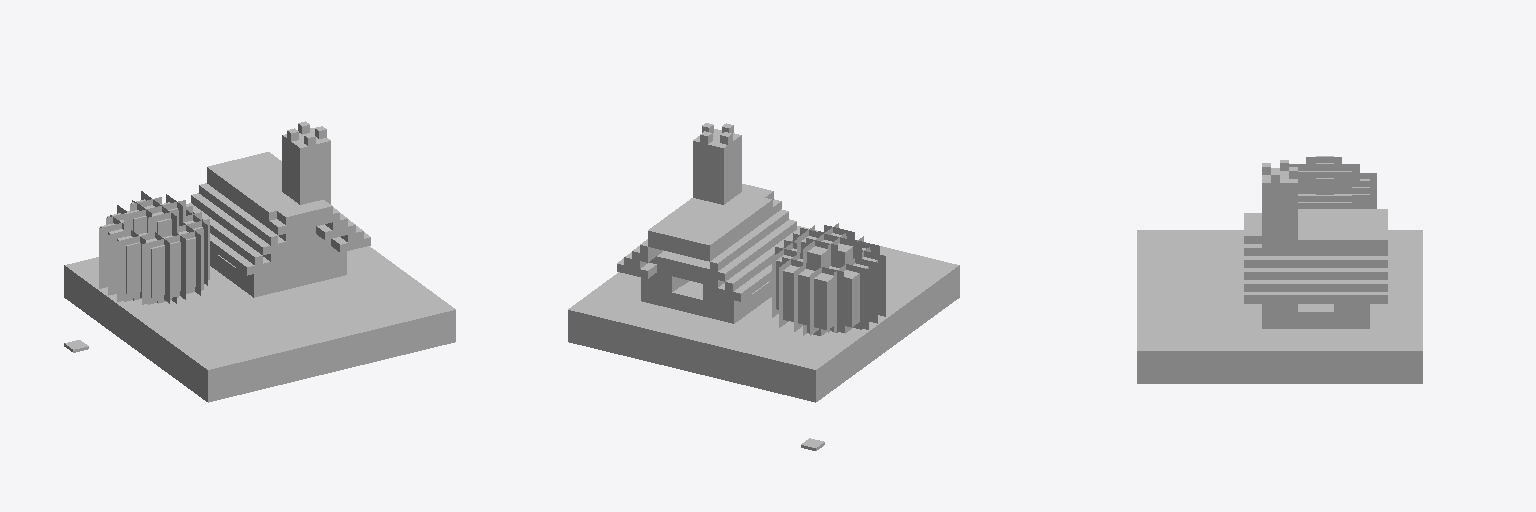
Rendered from brewing_stand.obj.
3 renders of one model, left to right at view 1: azimuth 30°, elevation 25°; view 2: azimuth 150°, elevation 25°; view 3: azimuth 270°, elevation 25°, orthographic.
Size of the model in its own units: 16.56 by 14 by 16.